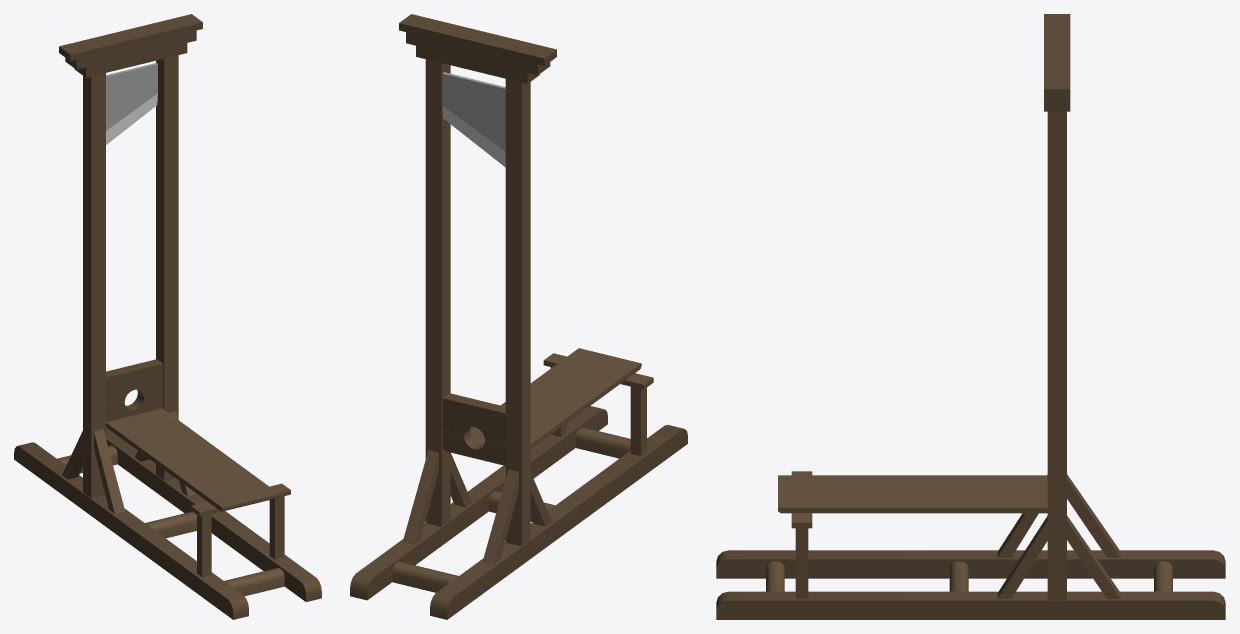
File: Guillotine.glb
The picture shows the model from 3 angles, left to right: view 1: azimuth 30°, elevation 25°; view 2: azimuth 150°, elevation 25°; view 3: azimuth 270°, elevation 25°; orthographic projection. The views are drawn at different scales.
Visible parts, largest first — view 1: torture_device_003; view 2: torture_device_003; view 3: torture_device_003.
Part boxes in pixels (left/top/right/bottom): torture_device_003: left=14, top=14, right=321, bottom=619; torture_device_003: left=350, top=14, right=687, bottom=619; torture_device_003: left=716, top=14, right=1225, bottom=619.
Bounding box in the file's own units: 1.11 × 3.75 × 3.18.
